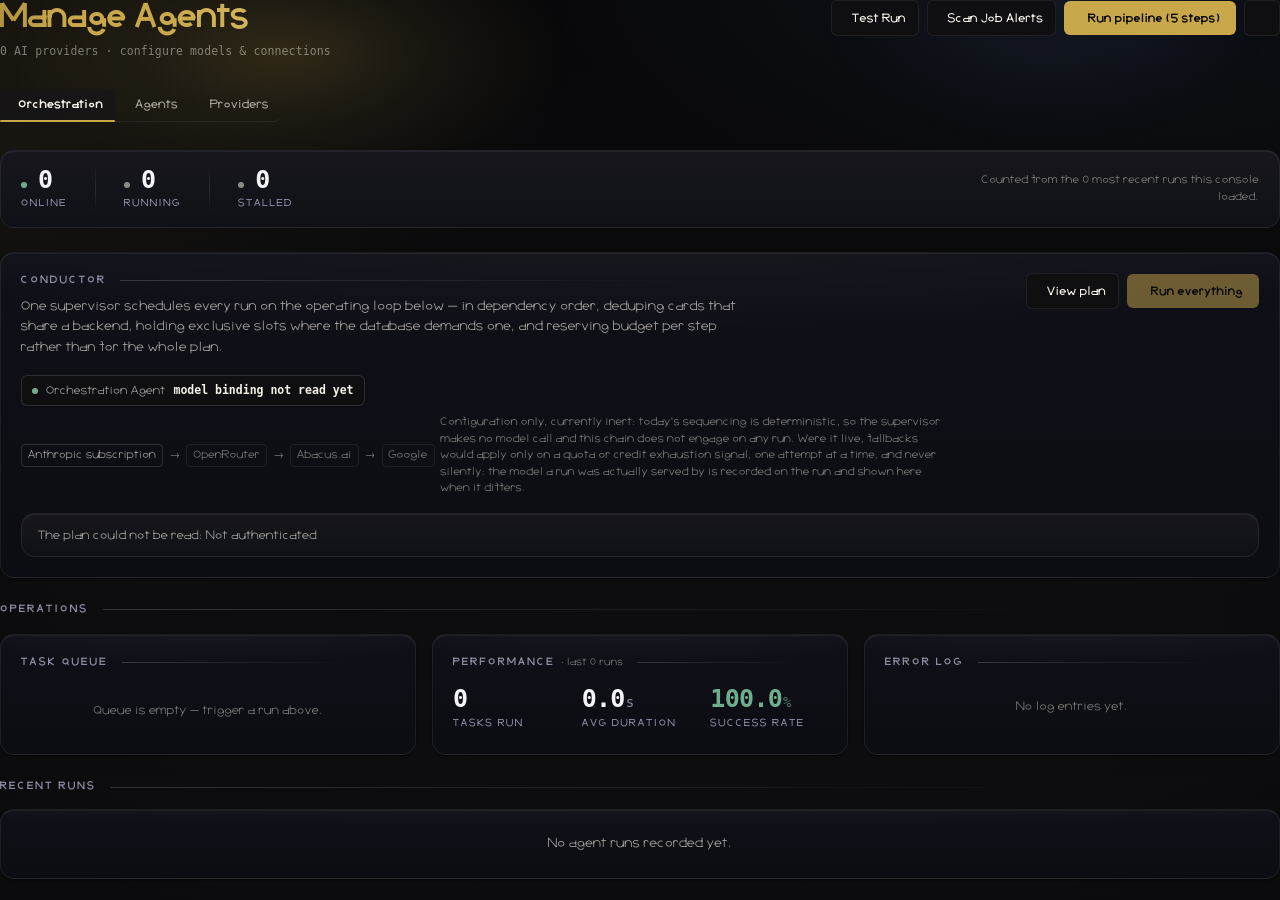
Test: Agents console — the job-alert intake is reachable here too › runs mode job_alerts (not triage) and reports the real counts
The width and height of the screenshot is (1280, 900).
Step 1. Click the button with test id "agents-scan-job-alerts" → {"x": 992, "y": 18}, box 927,0 -> 1056,36
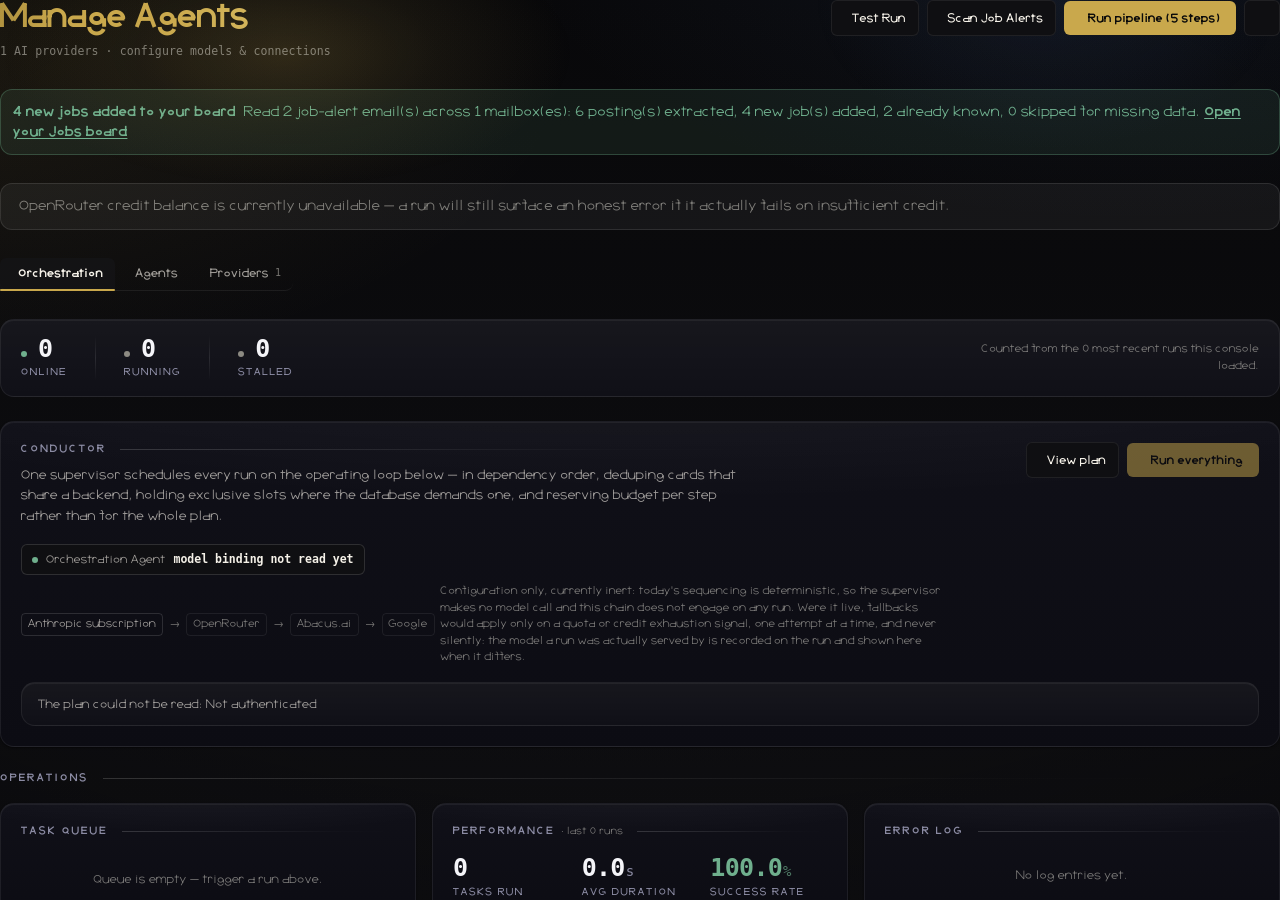
Check: the message with test id "agents-job-alerts-notice" shows "4 new jobs added to your board", box 13,105 -> 236,119
Check: the message with test id "agents-job-alerts-notice" shows "6 posting(s) extracted", box 244,105 -> 1200,119
